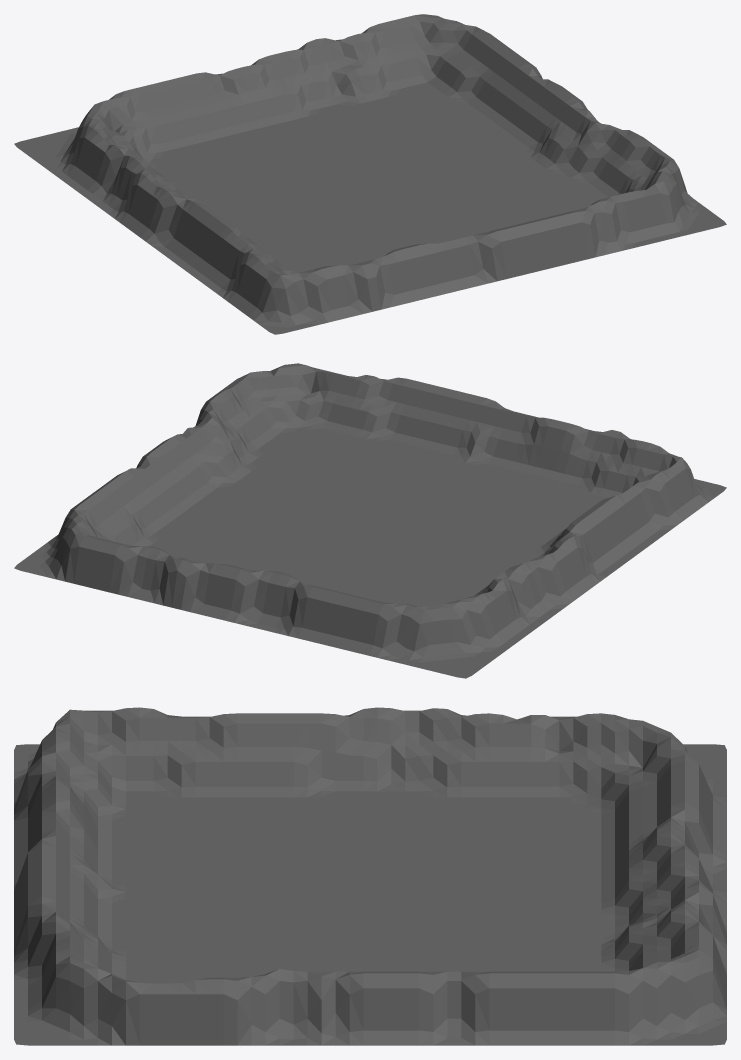
Rendered from Mountain.obj.
3 renders of one model, top to bottom at view 1: azimuth 30°, elevation 25°; view 2: azimuth 150°, elevation 25°; view 3: azimuth 270°, elevation 25°, orthographic. The views are drawn at different scales.
Visible parts, largest first — view 1: Plane; view 2: Plane; view 3: Plane.
Part boxes in pixels (<box>): Plane: <box>14,14,726,334</box>; Plane: <box>14,363,726,678</box>; Plane: <box>14,707,726,1045</box>.
Size of the model in its own units: 10 by 0.8425 by 10.
